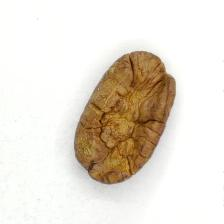NG: (89, 56, 159, 180)
